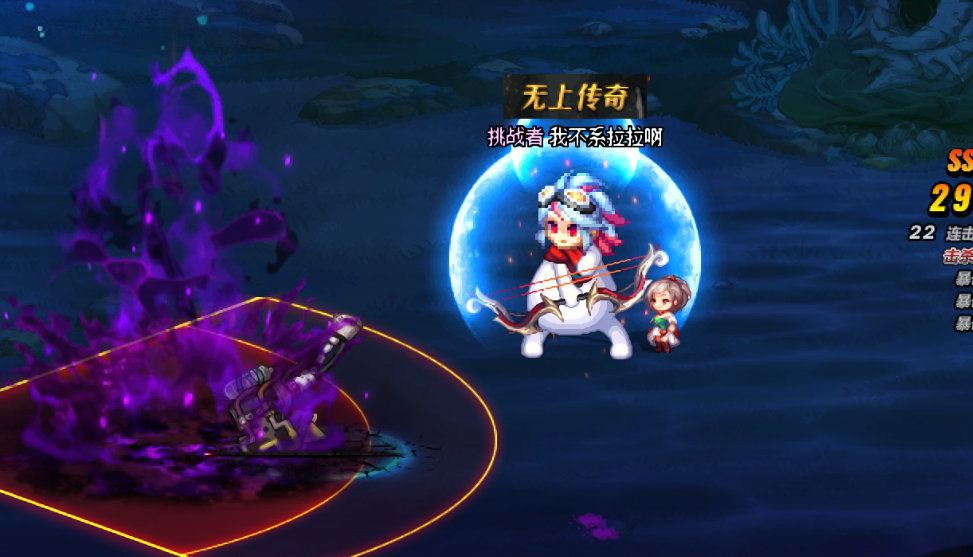role: (506, 75, 648, 118)
